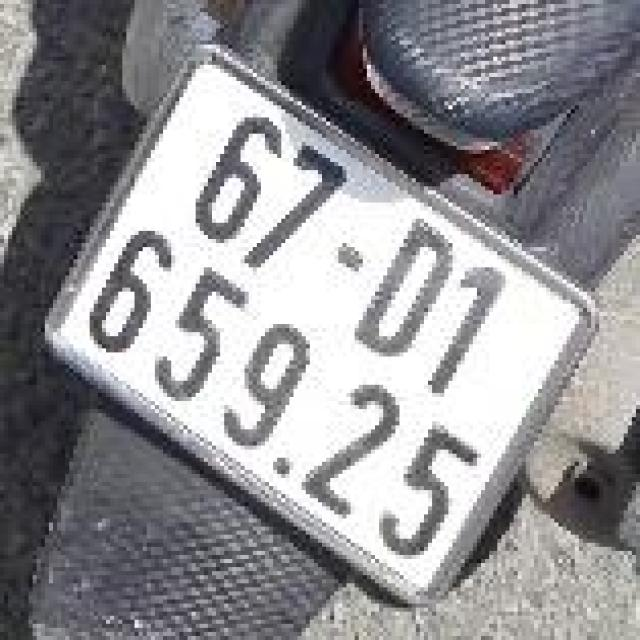1: (406, 245, 525, 416)
2: (293, 370, 425, 528)
5: (365, 407, 501, 576), (141, 254, 271, 420)
6: (169, 98, 310, 261), (75, 210, 193, 374)
7: (232, 135, 359, 301)
9: (206, 298, 330, 462)
D: (347, 208, 471, 374)
